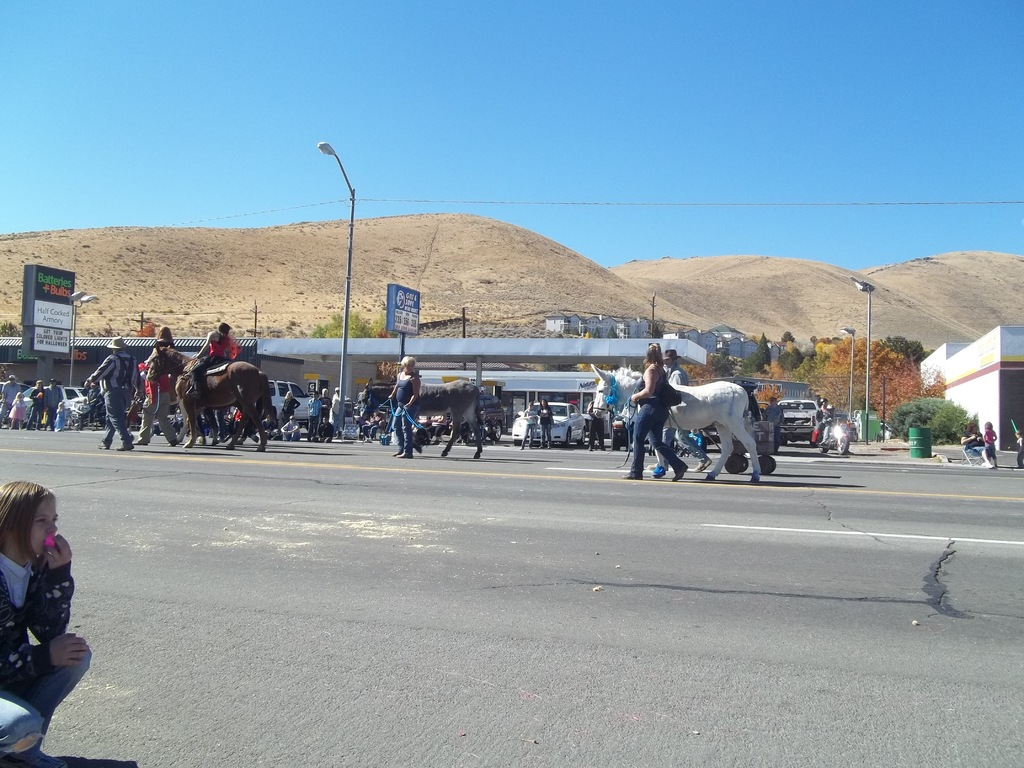Human_hand: (51, 632, 91, 669), (42, 534, 72, 569), (82, 380, 90, 390), (628, 393, 636, 403), (827, 417, 835, 425), (387, 393, 396, 400), (975, 435, 984, 442), (403, 403, 410, 410), (970, 431, 977, 438), (320, 403, 328, 409), (287, 429, 291, 437)
